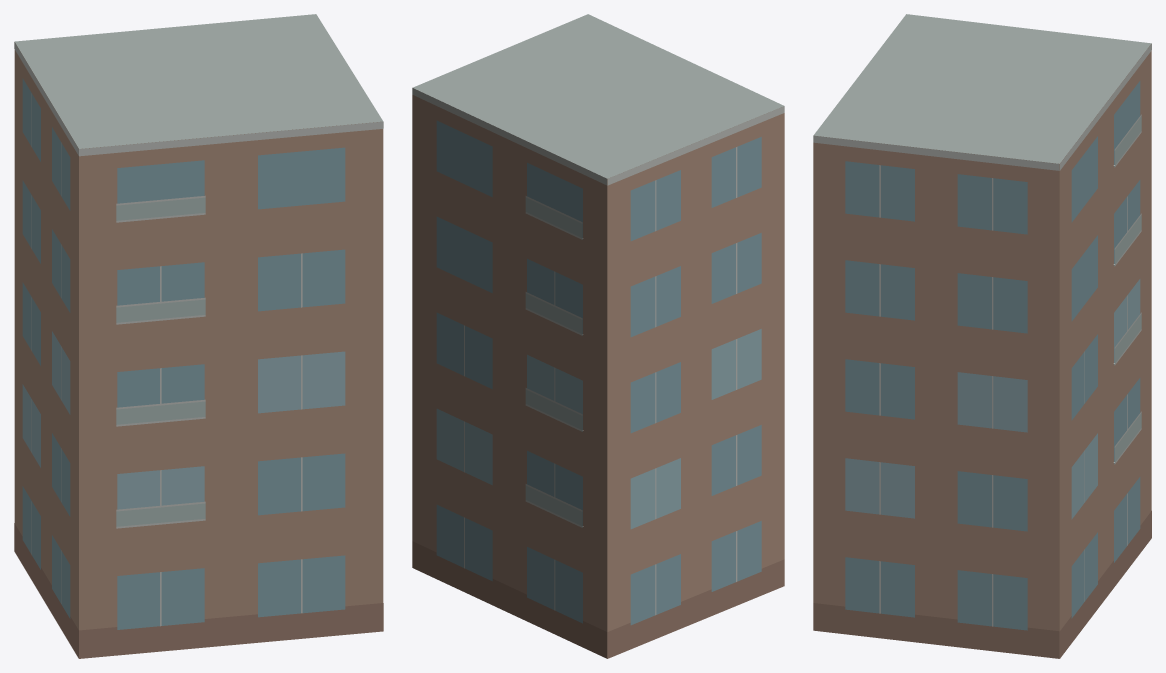
The model's file is survey-upis-33028771.glb.
The picture shows the model from 3 angles, left to right: view 1: azimuth 30°, elevation 25°; view 2: azimuth 150°, elevation 25°; view 3: azimuth 270°, elevation 25°; orthographic projection. The views are drawn at different scales.
Visible parts, largest first — view 1: survey-upis-33028771.tmp; view 2: survey-upis-33028771.tmp; view 3: survey-upis-33028771.tmp.
Part boxes in pixels (<box>): survey-upis-33028771.tmp: <box>14,14,383,658</box>; survey-upis-33028771.tmp: <box>412,14,784,658</box>; survey-upis-33028771.tmp: <box>813,14,1151,658</box>.
Size of the model in its own units: 11.08 by 17.05 by 10.57.
